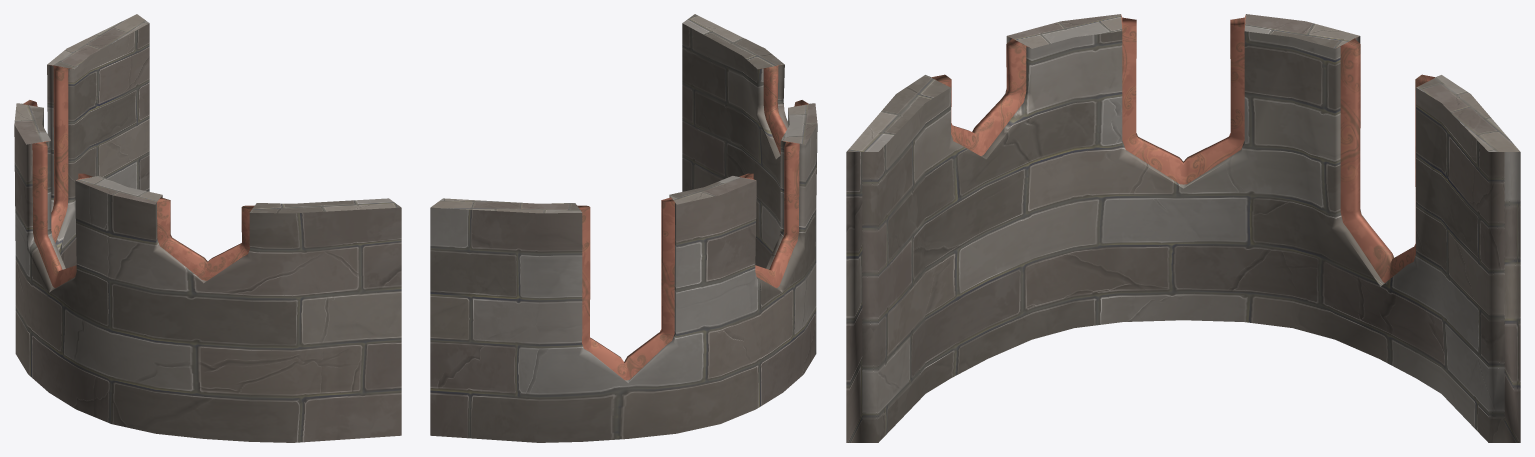
Rendered from wall_tower_window_bot.fbx.
3 views of the same model, side by side, from view 1: azimuth 30°, elevation 25°; view 2: azimuth 150°, elevation 25°; view 3: azimuth 270°, elevation 25° (orthographic). The views are drawn at different scales.
Parts seen in each view (by area): view 1: tower_windows_bot:polySurface955, tower_windows_bot:tower_windows_bot:polySurface954; view 2: tower_windows_bot:polySurface955, tower_windows_bot:tower_windows_bot:polySurface954; view 3: tower_windows_bot:polySurface955, tower_windows_bot:tower_windows_bot:polySurface954.
Part boxes in pixels (x1,y1,x2,y2): tower_windows_bot:polySurface955: [14, 14, 401, 442]; tower_windows_bot:tower_windows_bot:polySurface954: [23, 65, 254, 287]; tower_windows_bot:polySurface955: [430, 14, 817, 442]; tower_windows_bot:tower_windows_bot:polySurface954: [577, 64, 808, 380]; tower_windows_bot:polySurface955: [846, 14, 1520, 442]; tower_windows_bot:tower_windows_bot:polySurface954: [931, 17, 1435, 282].
Bounding box in the file's own units: 5.06 × 5.04 × 10.51.
